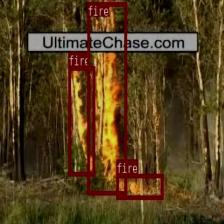fire: (87, 2, 127, 194), (68, 66, 95, 175), (116, 173, 163, 199)
